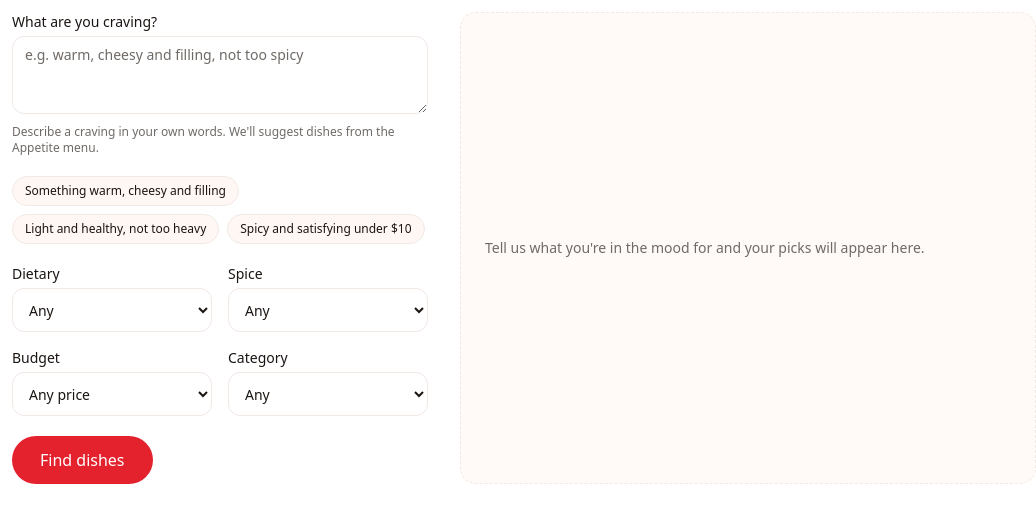
RecommendForm › shows a safe error and a retry action on a 400 response
The width and height of the screenshot is (1036, 506).
Type "hi" into the text box labelled "What are you craving?" at (220, 75), box [12,36,428,114]
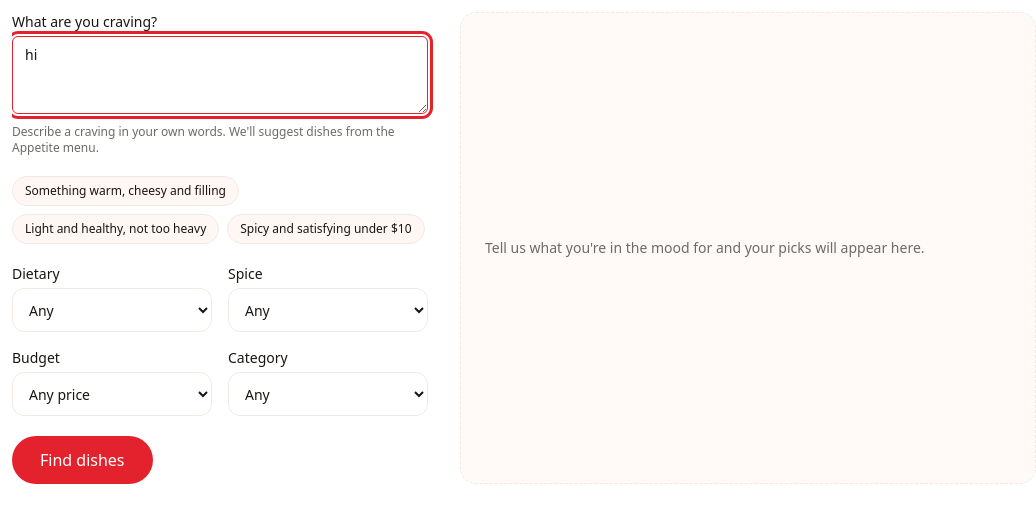
Click the button "Find dishes" at (82, 460), box [12,436,152,484]
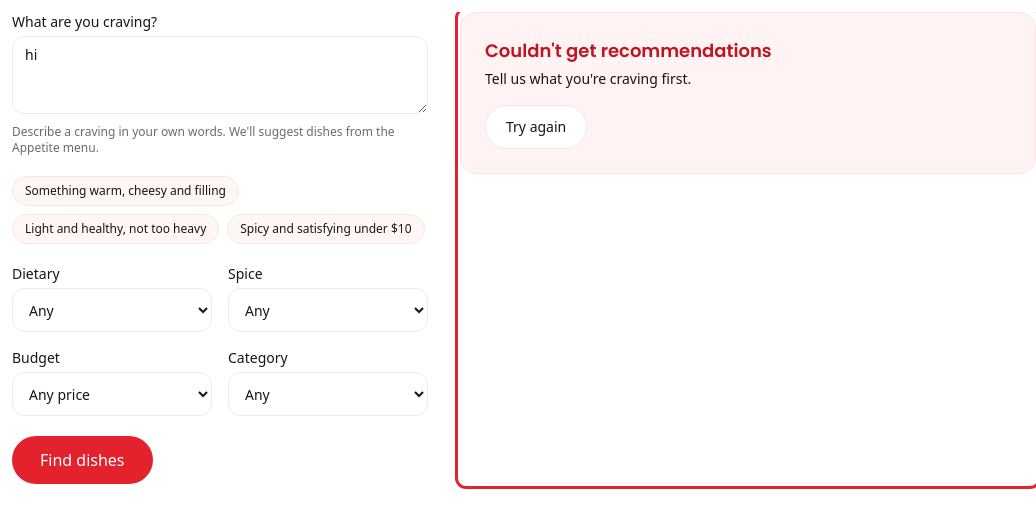
Check: the message shows "craving", box [485,69,691,88]
Check: the button "Try again" is shown, box [485,105,587,149]
